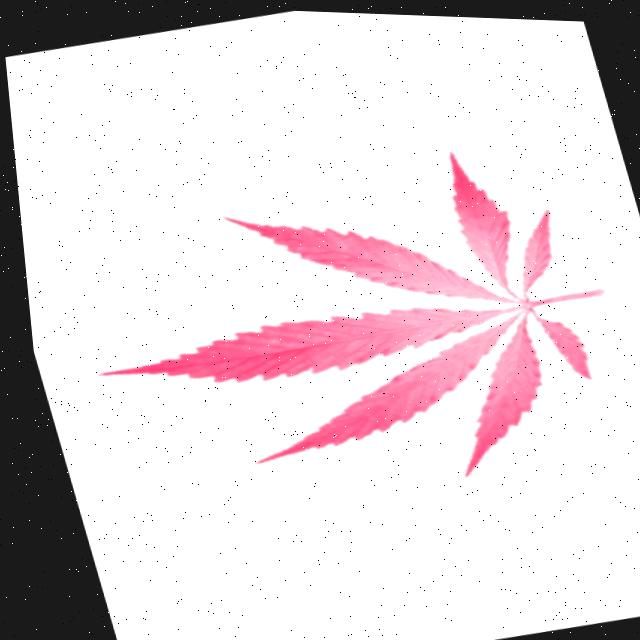cannabis: (100, 152, 605, 476)
